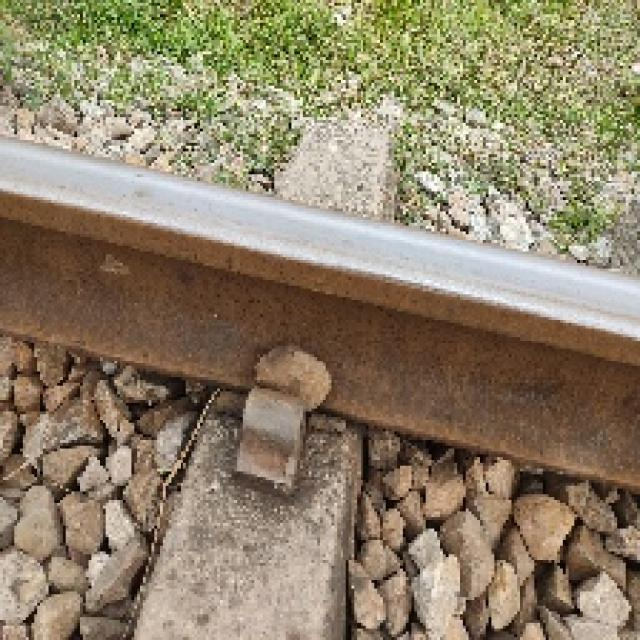Missing Fastener: (218, 381, 319, 522)
